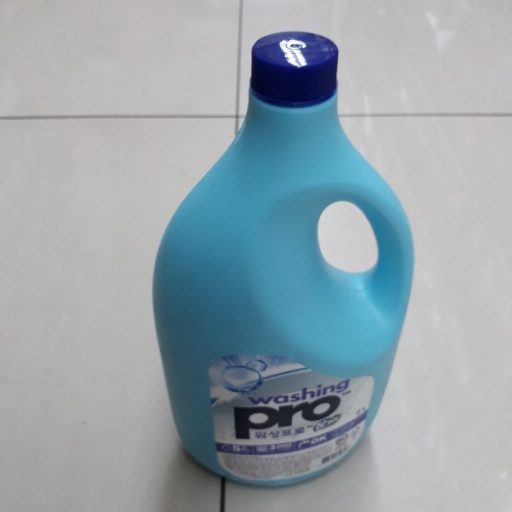Plastic_1: (149, 29, 417, 490)
